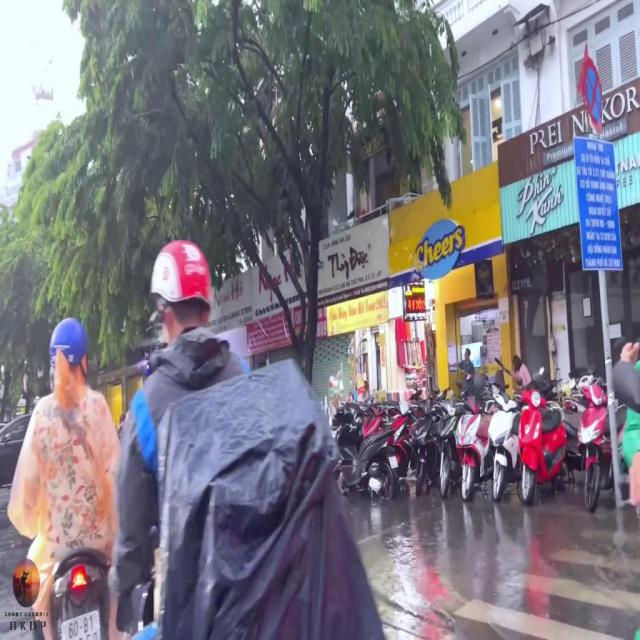cam_dung_xe_va_do_xe: (582, 57, 602, 134)
